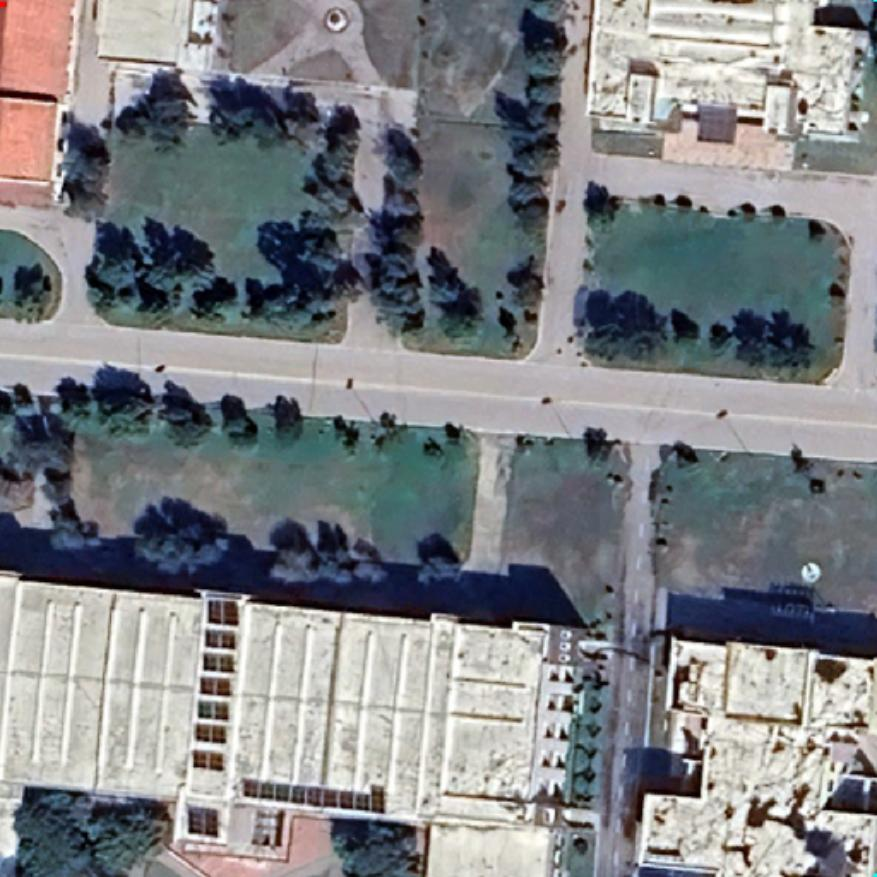Solarpanel: (233, 770, 393, 818), (182, 798, 226, 844), (203, 594, 243, 630), (188, 747, 229, 775), (196, 672, 236, 699), (190, 721, 230, 747), (200, 626, 240, 652), (193, 698, 233, 722), (198, 652, 238, 674)
